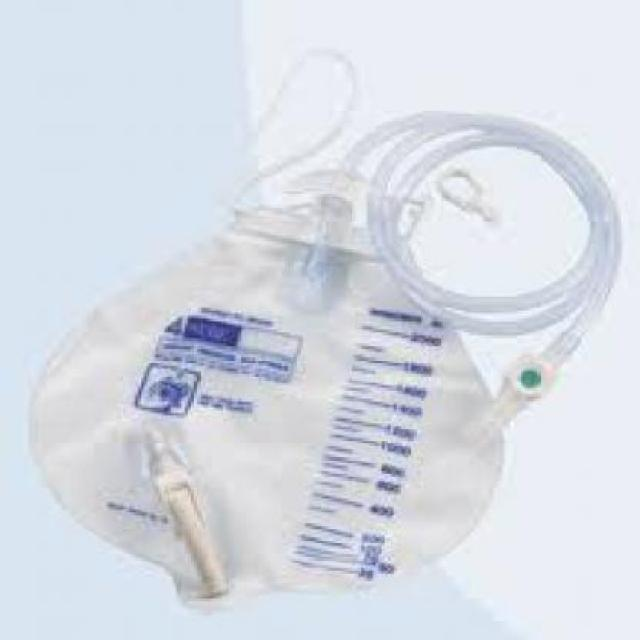B3: (29, 102, 623, 607)
